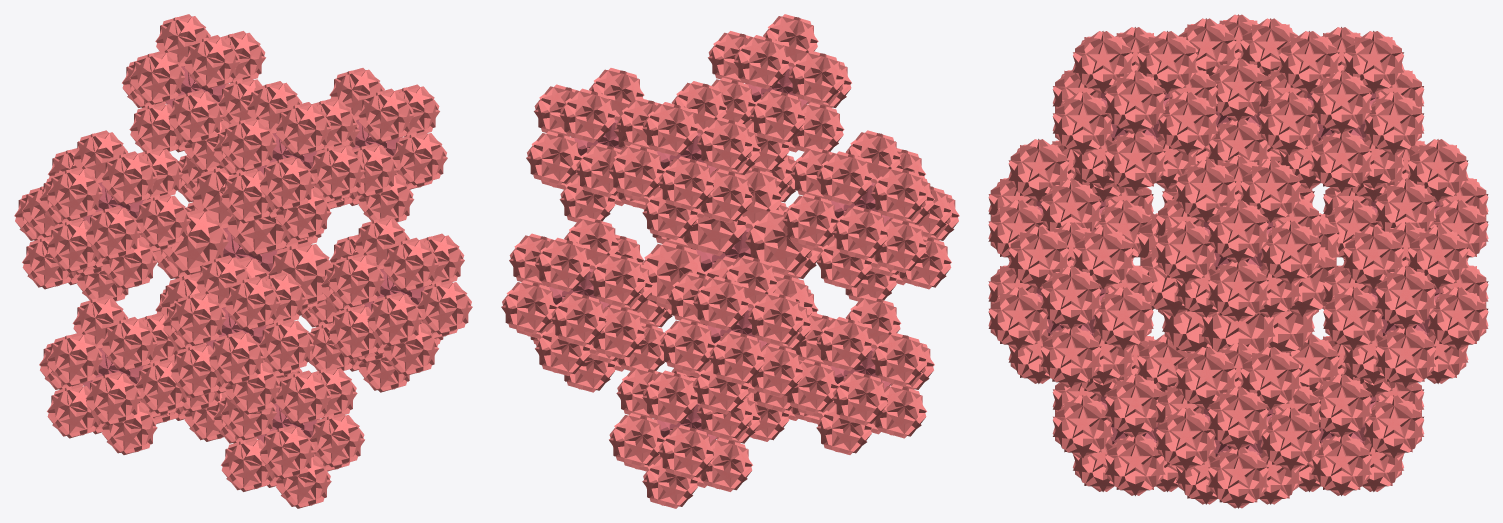
File: fractaltruncatedgreaticosahedron2.glb
3 views of the same model, side by side, from view 1: azimuth 30°, elevation 25°; view 2: azimuth 150°, elevation 25°; view 3: azimuth 270°, elevation 25° (orthographic). The views are drawn at different scales.
Bounding box in the file's own units: 8.99 × 8.99 × 8.99.
